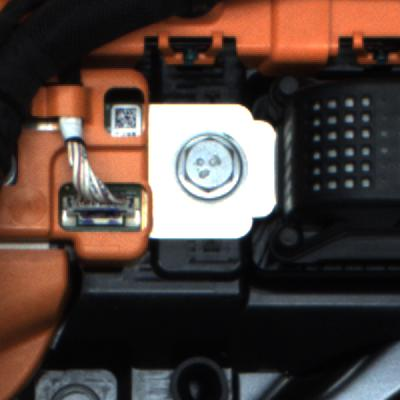nut_b: (170, 127, 247, 209)
